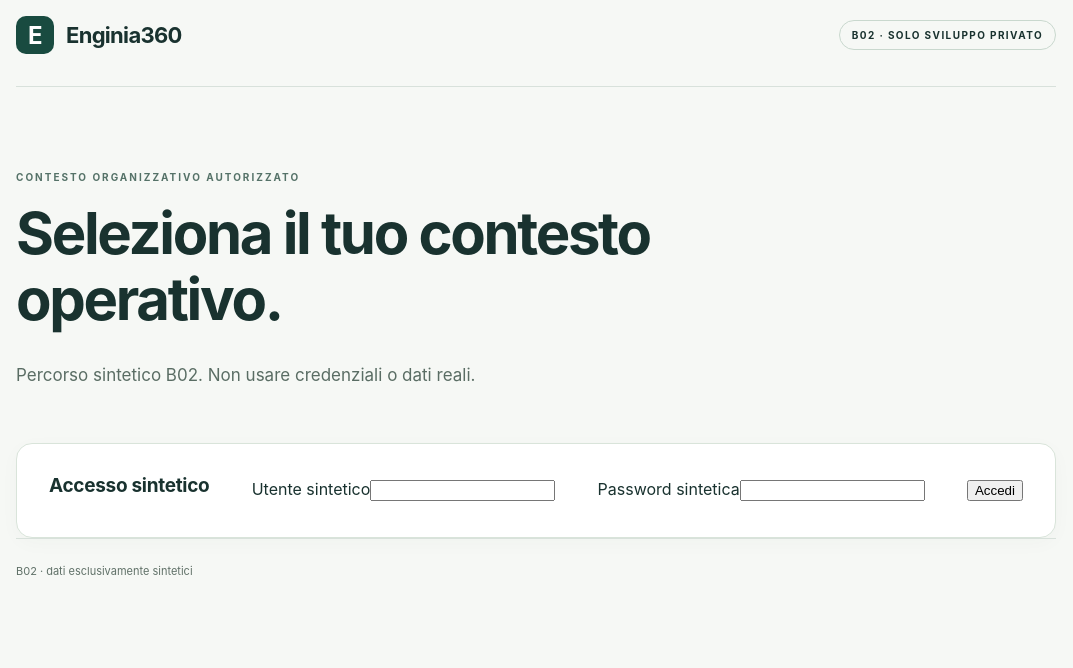
Test: B02 test UI keeps disabled contexts visible but not selectable
Type "operatore-alfa-sintetico" into the field labelled "Utente sintetico".
click(463, 491); type("operatore-alfa-sintetico")  # box [370,480,555,501]
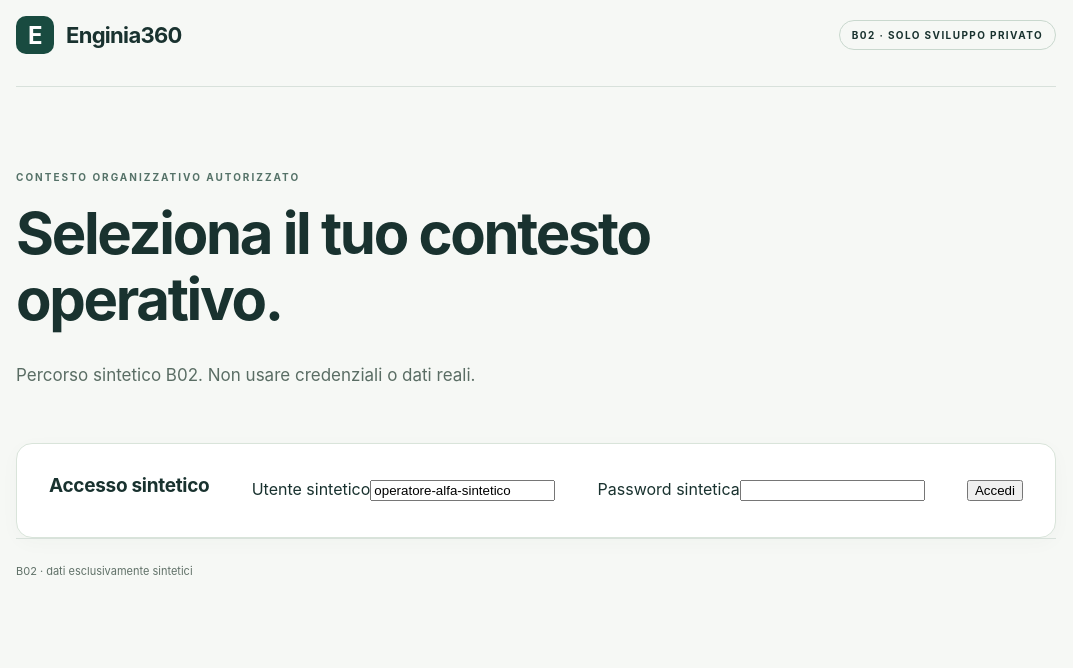
Type "password-effimera" into the password field labelled "Password sintetica".
click(832, 491); type("password-effimera")  # box [740,480,925,501]
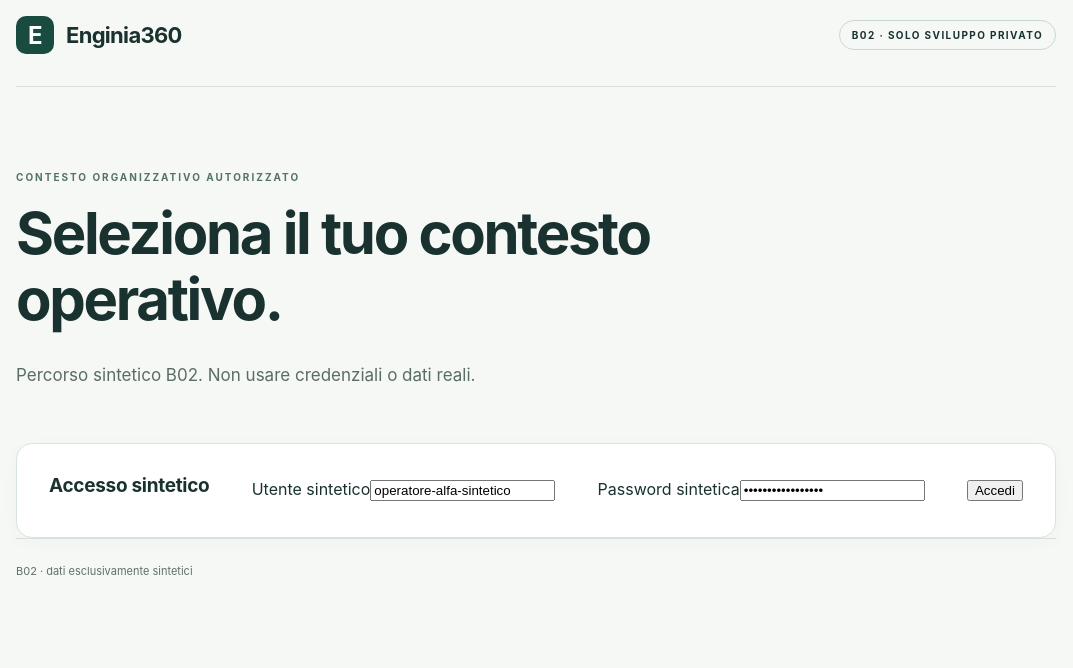
Click the button "Accedi".
click(995, 490)  # box [967,480,1023,501]
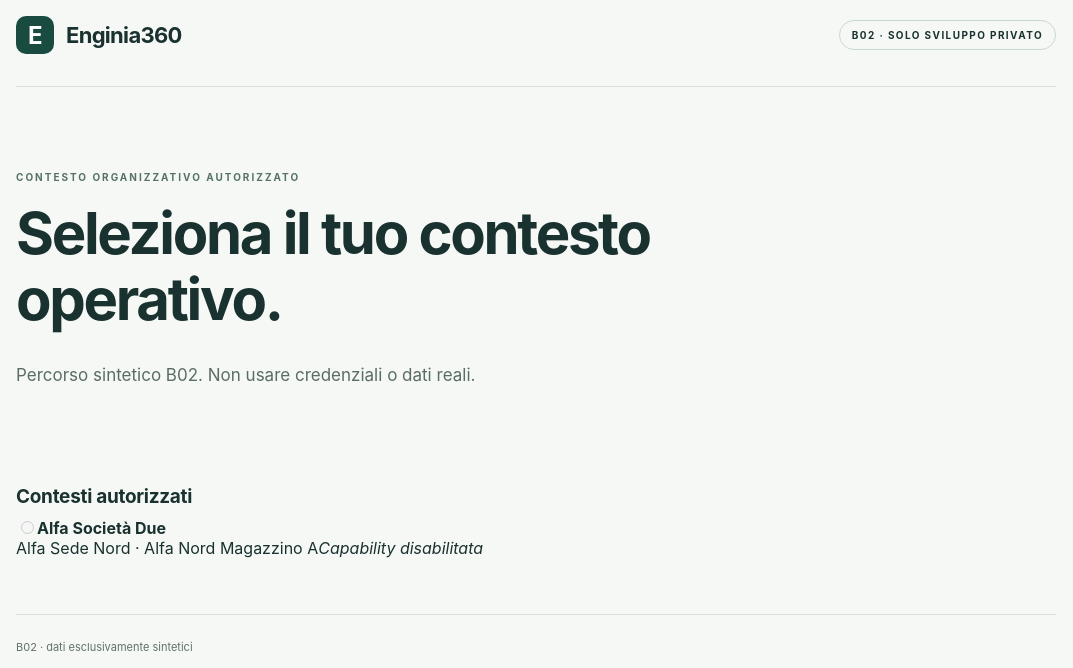
Expected: the radio button labelled "Alfa Società Due" is disabled, [21,521,34,534]
Expected: the text "Capability disabilitata" is shown, [318,538,483,558]
